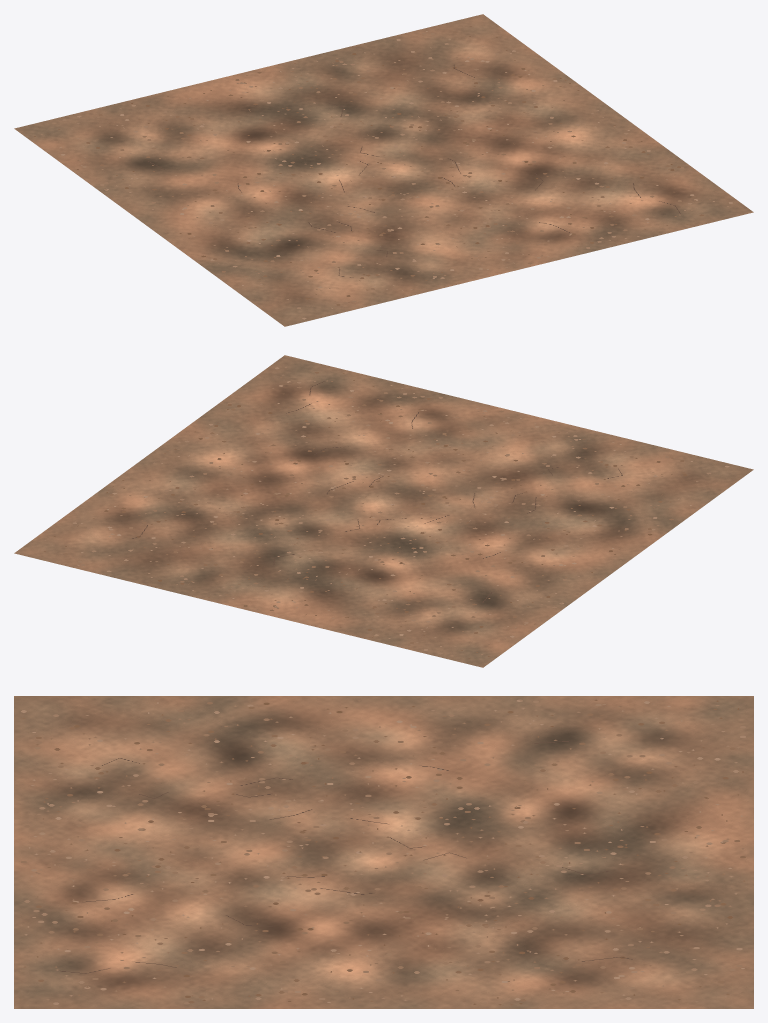
File: E07_SOLOZ2_P1_TERRA_SECA_B.glb
3 renders of one model, top to bottom at view 1: azimuth 30°, elevation 25°; view 2: azimuth 150°, elevation 25°; view 3: azimuth 270°, elevation 25°, orthographic. The views are drawn at different scales.
Parts seen in each view (by area): view 1: piso_2x2_texturizado; view 2: piso_2x2_texturizado; view 3: piso_2x2_texturizado.
Part boxes in pixels (box(x1,y1,x2,y2)): piso_2x2_texturizado: box(14, 14, 753, 326); piso_2x2_texturizado: box(14, 355, 753, 667); piso_2x2_texturizado: box(14, 696, 753, 1008).
Bounding box in the file's own units: 2 × 0.00775 × 2.
1 material, 1 textured.
